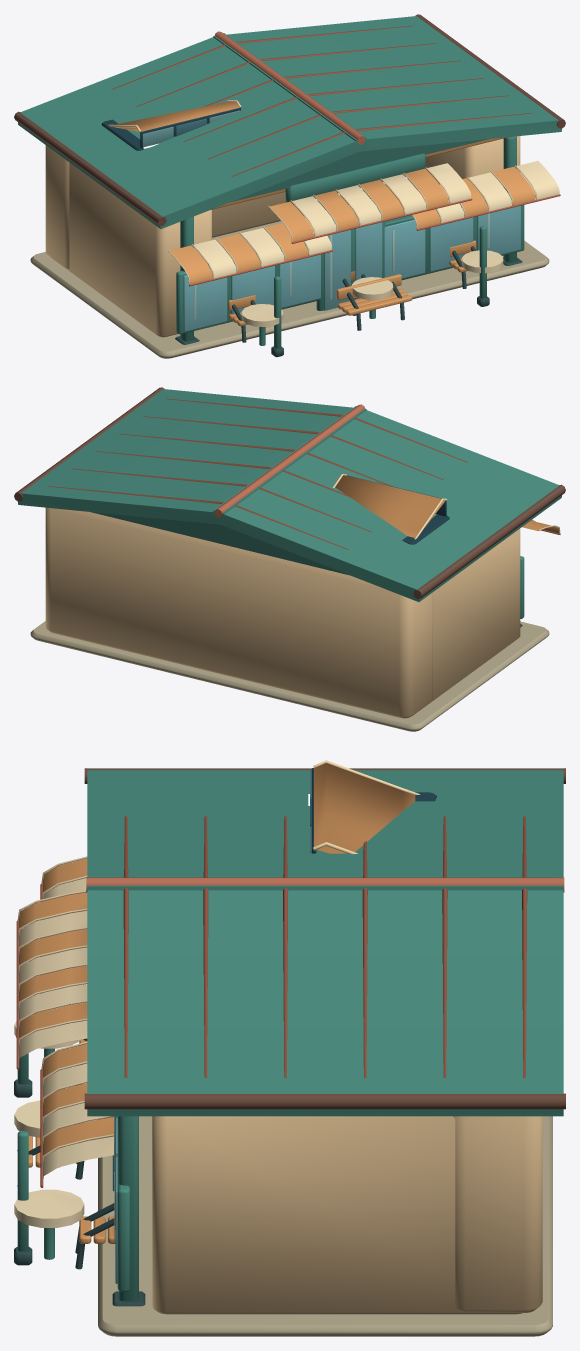
File: tropical_restaurant.glb
3 views of the same model, one above another, from view 1: azimuth 30°, elevation 25°; view 2: azimuth 150°, elevation 25°; view 3: azimuth 270°, elevation 25° (orthographic). The views are drawn at different scales.
Parts seen in each view (by area): view 1: TropicalRestaurant; view 2: TropicalRestaurant; view 3: TropicalRestaurant.
Part boxes in pixels (<box>): TropicalRestaurant: <box>14,14,565,358</box>; TropicalRestaurant: <box>14,387,565,731</box>; TropicalRestaurant: <box>14,760,565,1336</box>.
Bounding box in the file's own units: 9.89 × 4.18 × 6.94.
